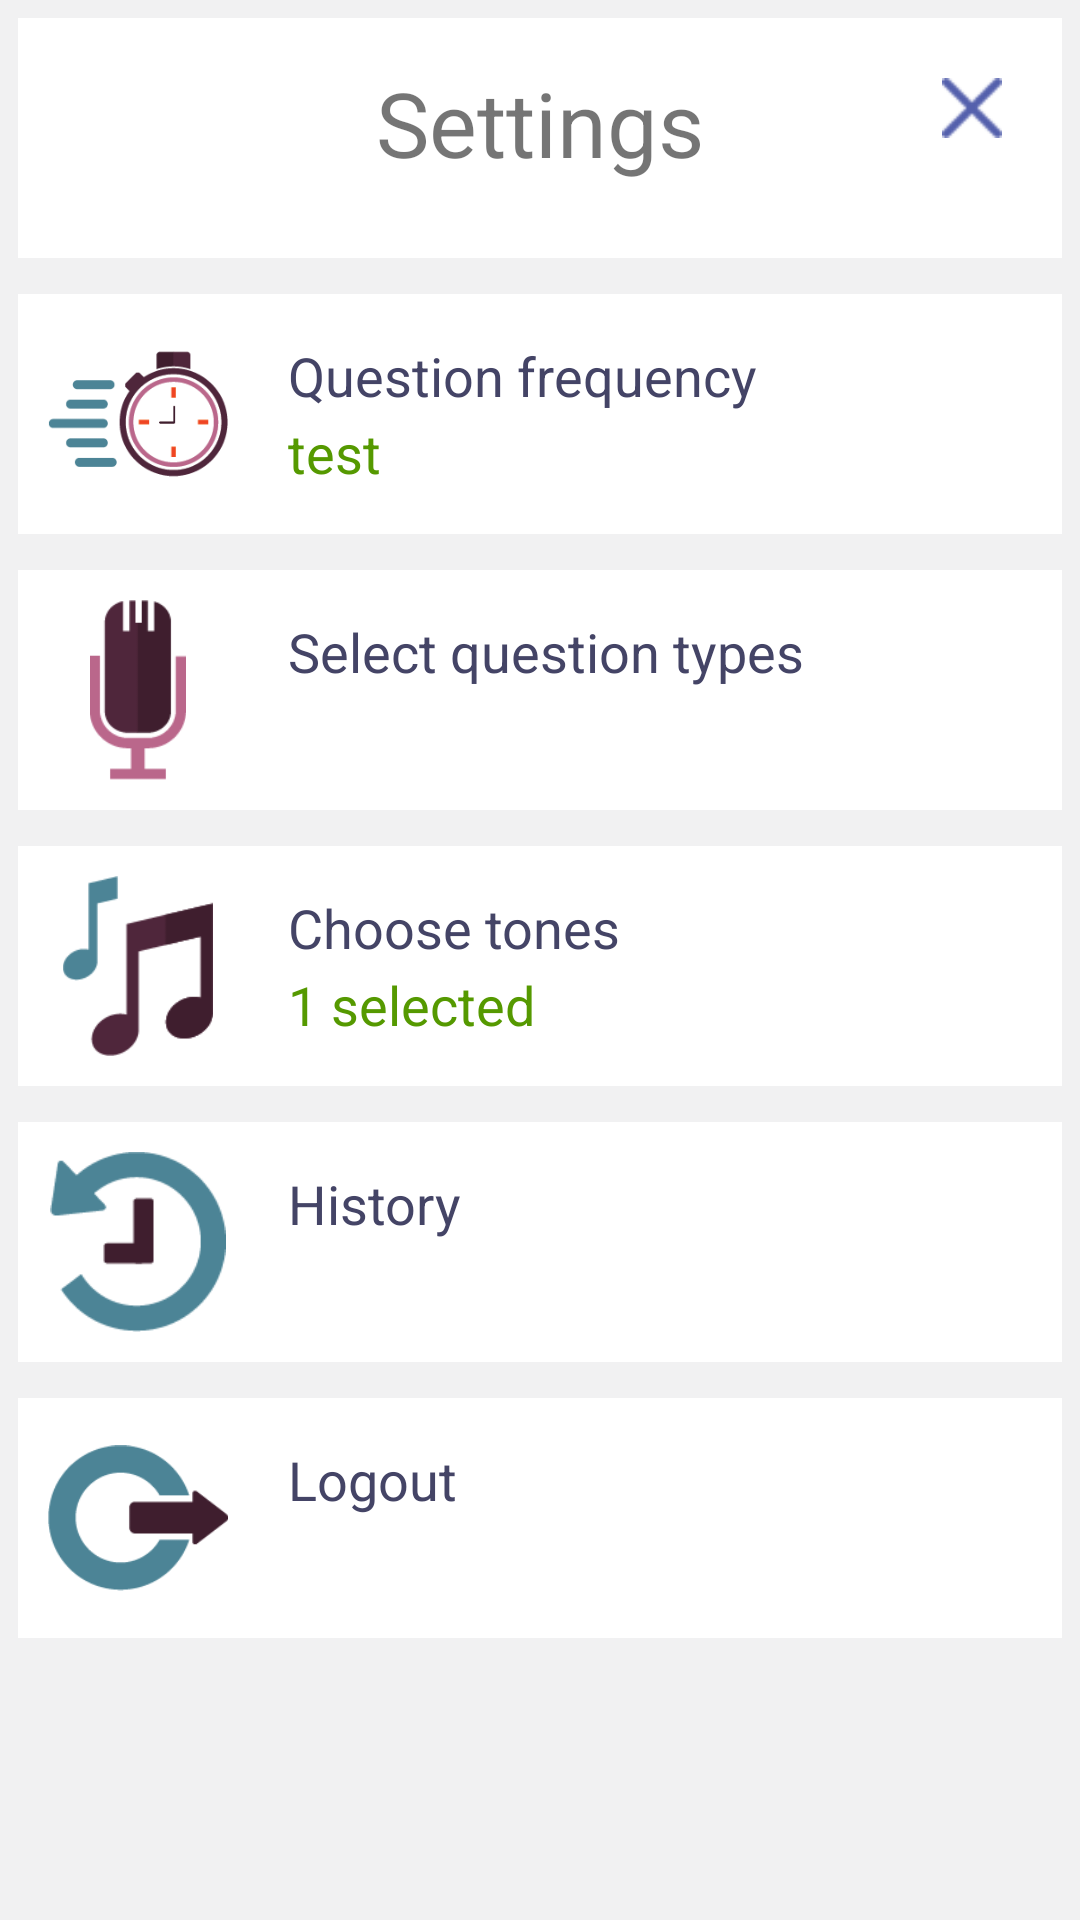

Icon bounding boxes for this 1080*1920 phone screenshot, format (x1, y1, x2, y2):
checkpoint frequency: (49, 351, 228, 477)
record tone: (90, 600, 186, 780)
select tones: (63, 876, 213, 1056)
